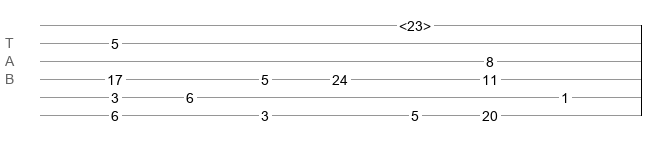1: (561, 90, 569, 100)
11: (482, 72, 498, 82)
17: (107, 72, 123, 82)
20: (482, 108, 498, 118)
24: (332, 72, 348, 82)
3: (111, 90, 119, 100), (261, 108, 269, 118)
5: (111, 36, 119, 46), (261, 72, 269, 82), (411, 108, 419, 118)
6: (111, 108, 119, 118), (186, 90, 194, 100)
8: (486, 54, 494, 64)
harmonic: (399, 18, 431, 28)
